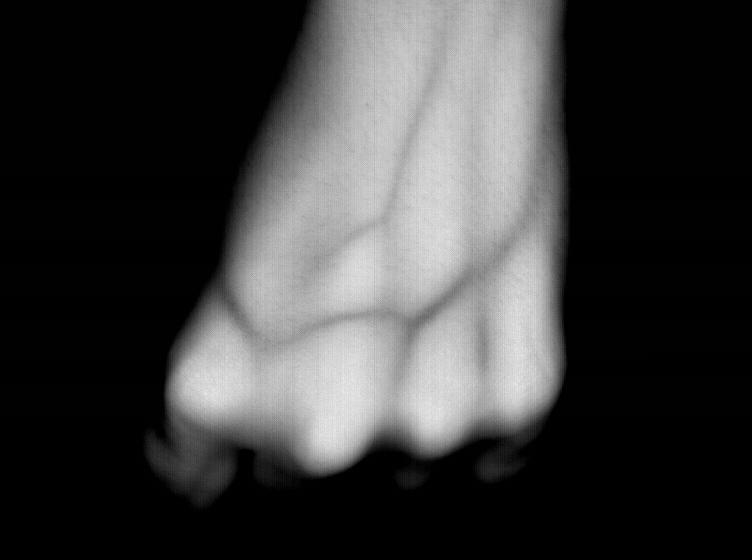Vein: (289, 250, 502, 353)
